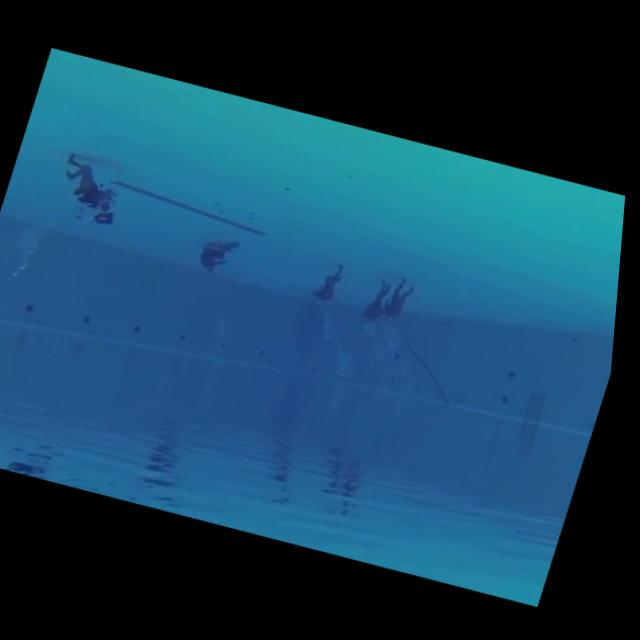human: (48, 144, 140, 236), (191, 225, 251, 287), (353, 268, 403, 338), (386, 267, 430, 331), (308, 254, 358, 308)
